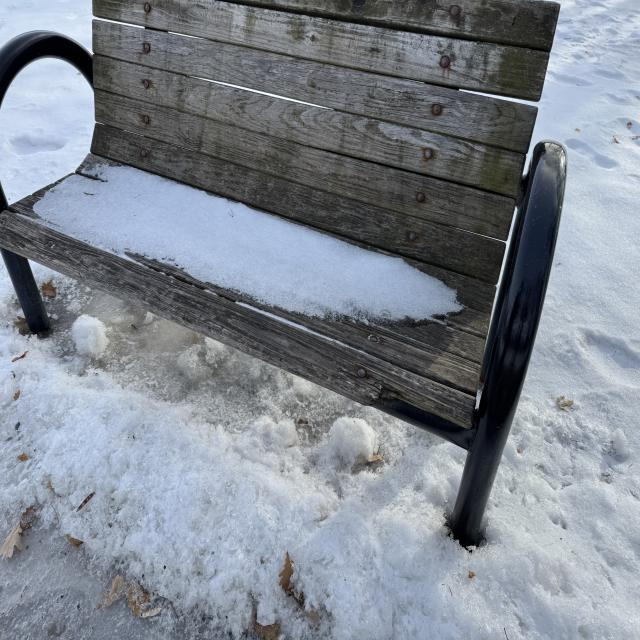Bench: (1, 69, 568, 546)
